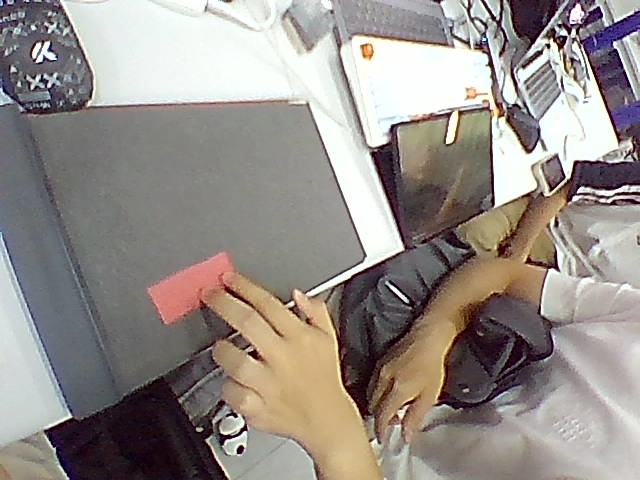card: (147, 252, 233, 323)
